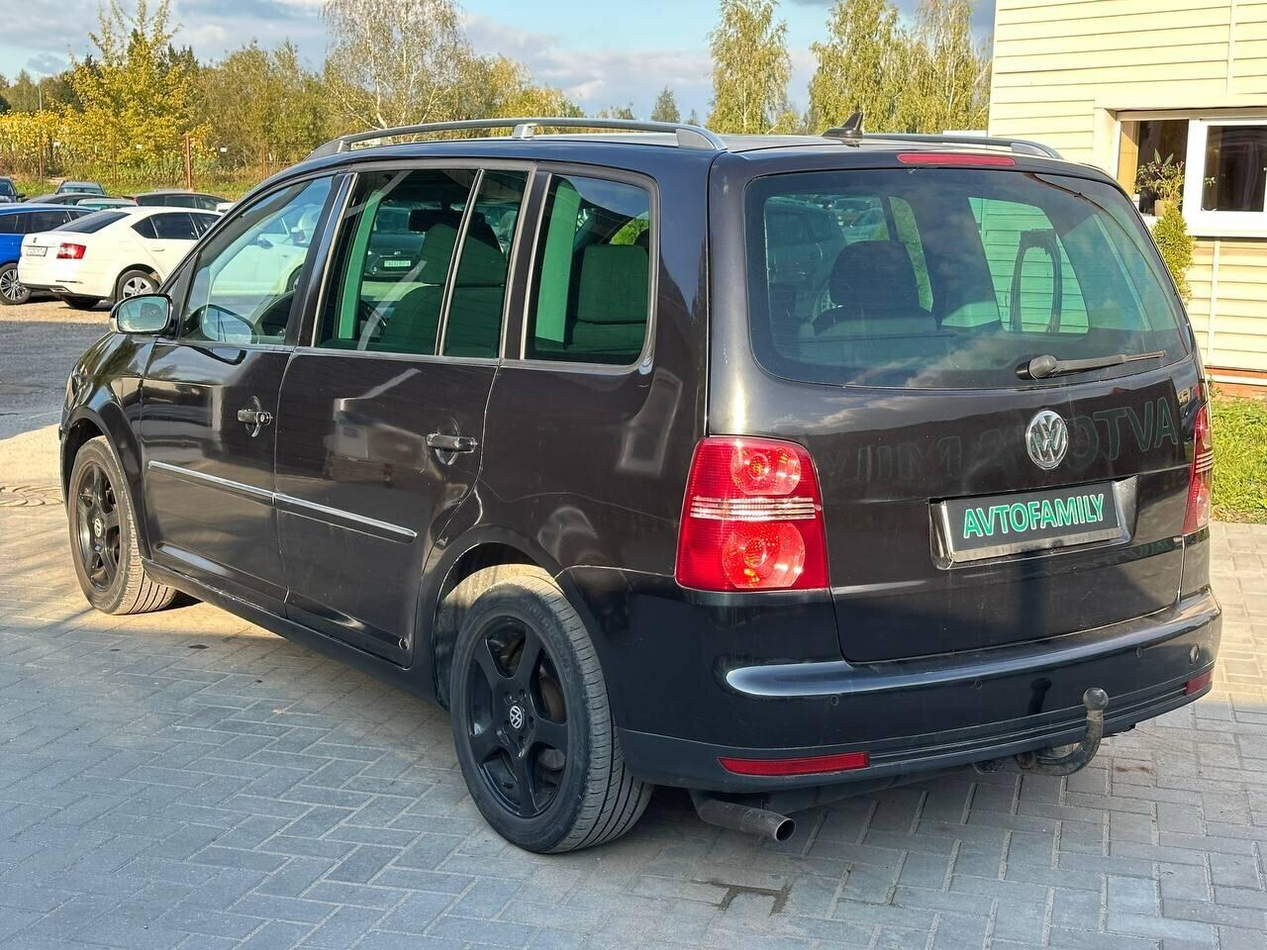Touran_2006-2010: (49, 124, 1235, 878)
